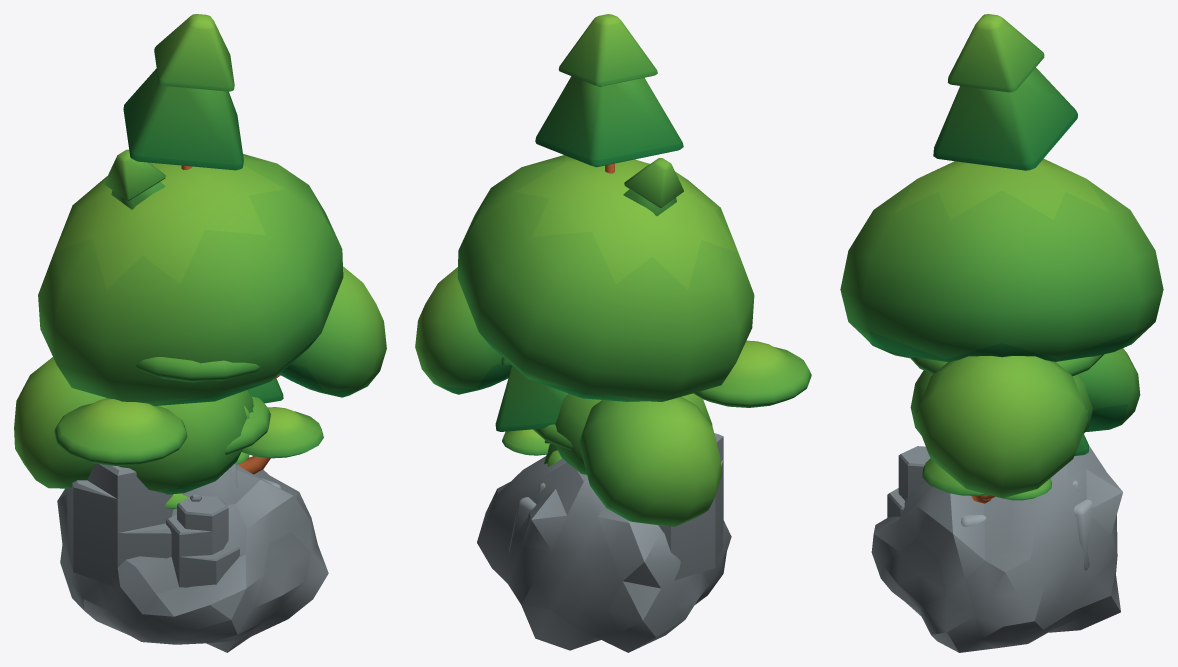
File: forest.glb
3 renders of one model, left to right at view 1: azimuth 30°, elevation 25°; view 2: azimuth 150°, elevation 25°; view 3: azimuth 270°, elevation 25°, orthographic. The views are drawn at different scales.
Visible parts, largest first — view 1: Tree_1_C_Color1, Rock_3_Q_Color1, Tree_4_C_Color1, Rock_1_J_Color1, Tree_3_C_Color1, Tree_1_A_Color1, Tree_3_A_Color1; view 2: Tree_1_C_Color1, Rock_3_Q_Color1, Tree_4_C_Color1, Tree_3_C_Color1, Rock_1_J_Color1, Tree_1_A_Color1; view 3: Tree_1_C_Color1, Rock_3_Q_Color1, Tree_4_C_Color1, Tree_3_C_Color1, Rock_1_J_Color1, Rock_2_G_Color1, Tree_1_A_Color1.
Part boxes in pixels (x1,y1,x2,y2): Tree_1_C_Color1: (14, 154, 386, 488); Rock_3_Q_Color1: (57, 457, 328, 652); Tree_4_C_Color1: (104, 14, 283, 403); Rock_1_J_Color1: (67, 463, 239, 587); Tree_3_C_Color1: (54, 357, 323, 474); Tree_1_A_Color1: (106, 390, 253, 494); Tree_3_A_Color1: (164, 396, 270, 508); Tree_1_C_Color1: (415, 155, 754, 526); Rock_3_Q_Color1: (477, 456, 731, 652); Tree_4_C_Color1: (495, 14, 683, 431); Tree_3_C_Color1: (502, 340, 811, 455); Rock_1_J_Color1: (658, 433, 723, 580); Tree_1_A_Color1: (547, 393, 712, 474); Tree_1_C_Color1: (840, 158, 1163, 498); Rock_3_Q_Color1: (871, 445, 1122, 652); Tree_4_C_Color1: (933, 14, 1088, 455); Tree_3_C_Color1: (866, 339, 1104, 503); Rock_1_J_Color1: (887, 446, 930, 517); Rock_2_G_Color1: (961, 480, 1092, 570); Tree_1_A_Color1: (910, 370, 1092, 478).
Size of the model in its own units: 7.18 by 12.04 by 5.75.
1 material, 1 textured.
